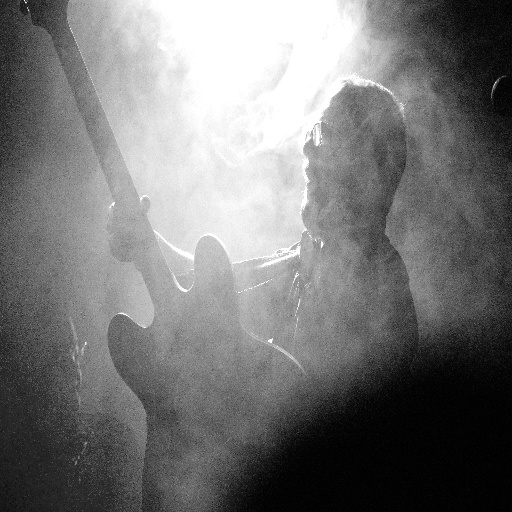hand: (104, 192, 152, 260)
